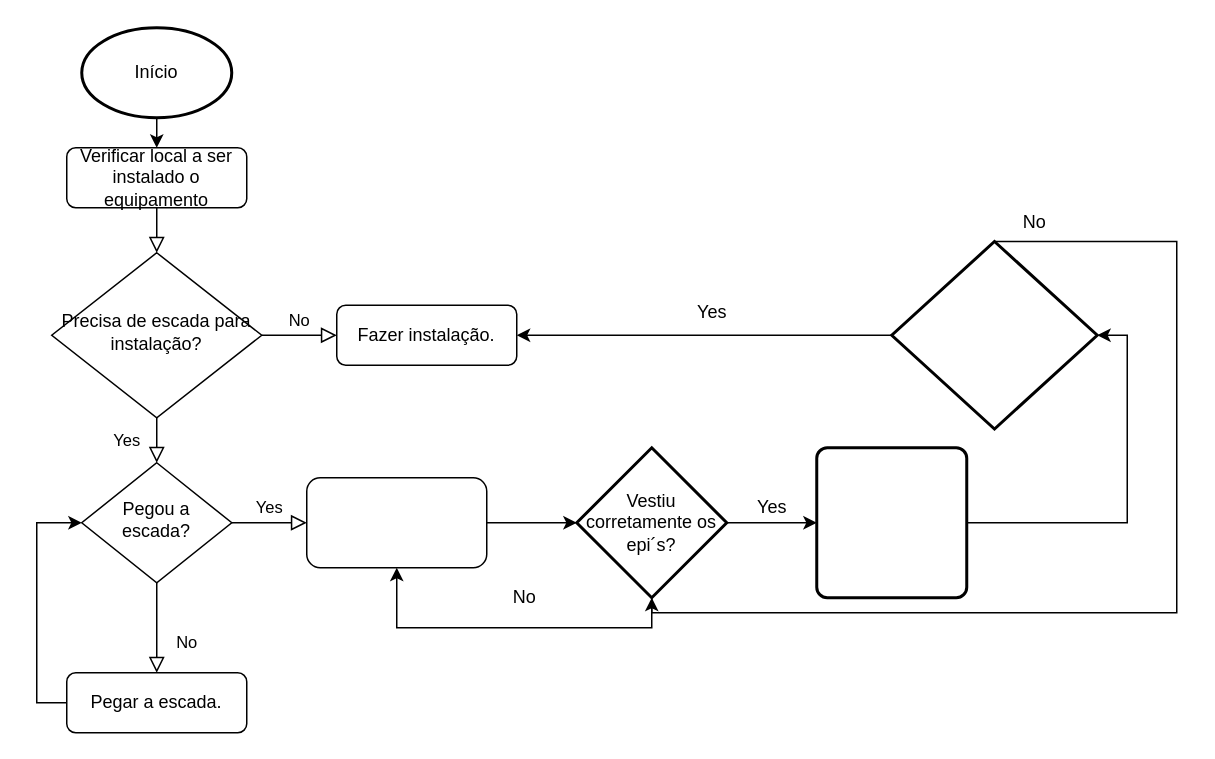
The diagram is 1215 pixels wide and 759 high, and some of its shapes have lost their labels. Here are the shapes that lost their labels. From the top down, the centre of each, then its label:
[994,334]: Local e profissional estão seguros para o serviço?
[396,522]: Vestir Equipamento de segurança, cinta de segurança e epi´s em geral
[891,522]: Verificar se está com os equipamentos encaixados, fixos e devidamente ajustados.
